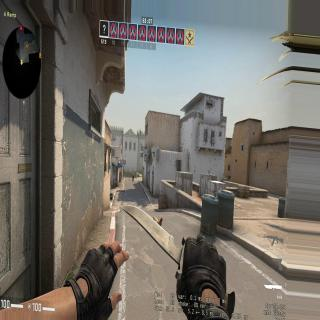CT-Body: (226, 172, 231, 180), (132, 173, 134, 182)
CT-Head: (227, 172, 229, 175), (132, 173, 134, 174)
